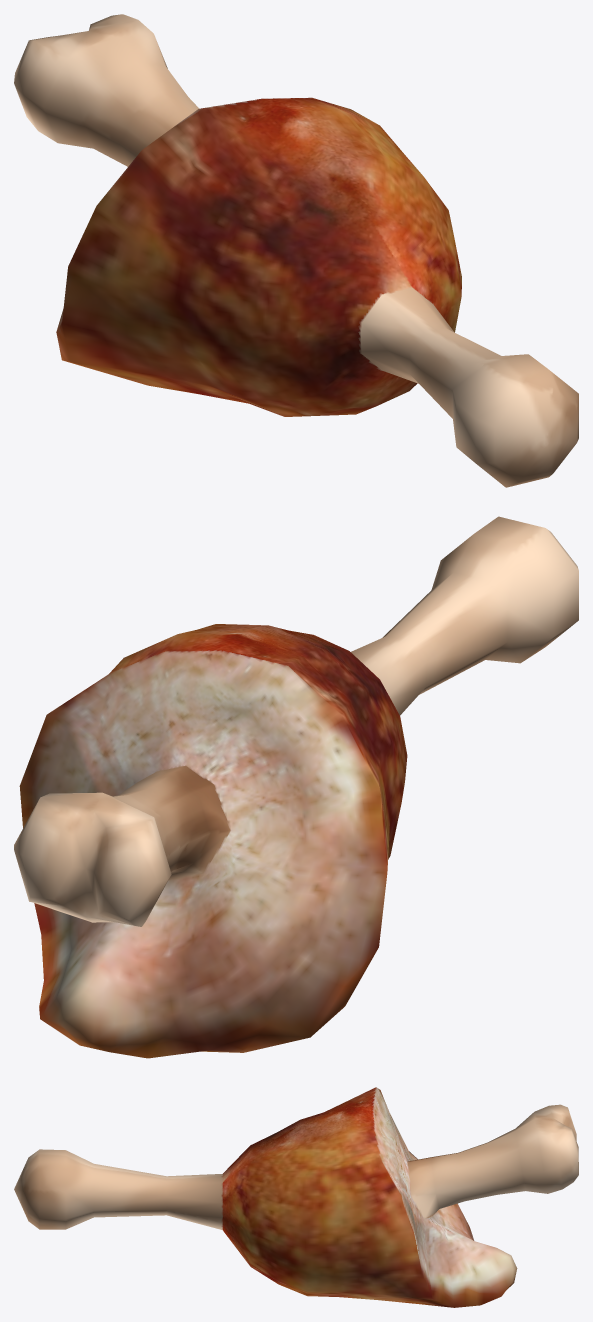
The model's file is tulang_ayam.fbx.
3 renders of one model, top to bottom at view 1: azimuth 30°, elevation 25°; view 2: azimuth 150°, elevation 25°; view 3: azimuth 270°, elevation 25°, orthographic. The views are drawn at different scales.
Parts seen in each view (by area): view 1: Circle; view 2: Circle; view 3: Circle.
Part boxes in pixels (box(x1,y1,x2,y2)): Circle: box(14, 14, 578, 487); Circle: box(14, 516, 578, 1058); Circle: box(14, 1087, 578, 1307).
Size of the model in its own units: 42.68 by 39.69 by 104.
Materials: 1 (1 with a texture image).
